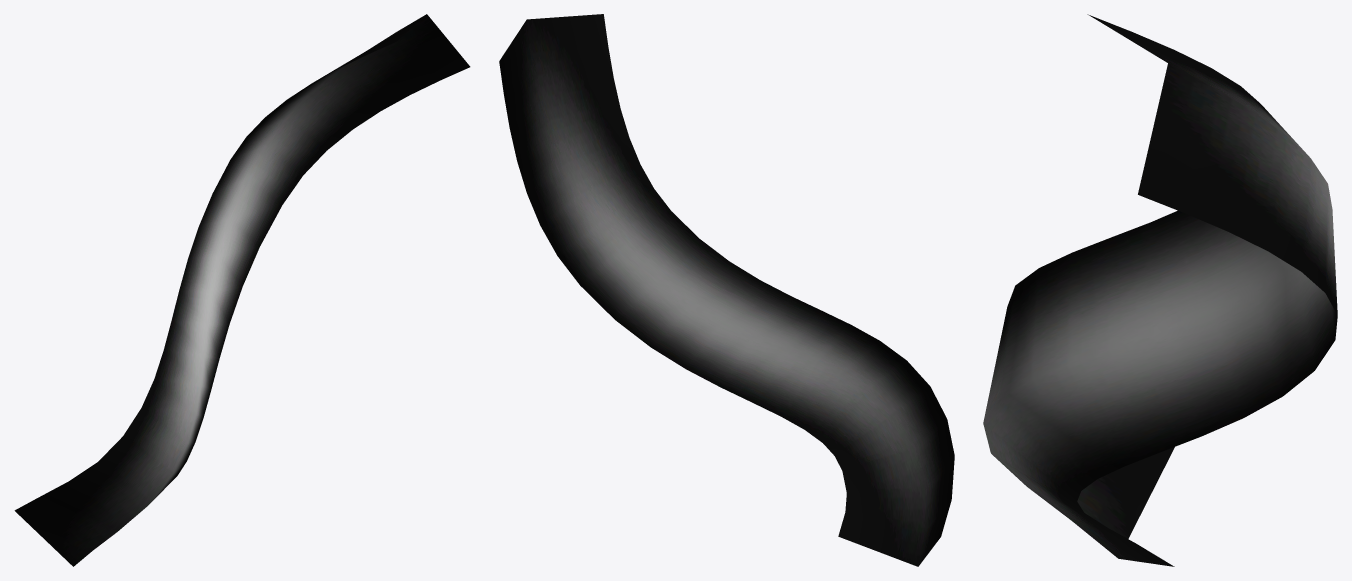
Rendered from vfx_kurp_1183.dae.
3 views of the same model, side by side, from view 1: azimuth 30°, elevation 25°; view 2: azimuth 150°, elevation 25°; view 3: azimuth 270°, elevation 25° (orthographic). The views are drawn at different scales.
Visible parts, largest first — view 1: vfx_kurp_1183; view 2: vfx_kurp_1183; view 3: vfx_kurp_1183.
Part boxes in pixels (x1,y1,x2,y2): vfx_kurp_1183: [14, 14, 470, 566]; vfx_kurp_1183: [499, 14, 954, 566]; vfx_kurp_1183: [983, 14, 1337, 566].
Size of the model in its own units: 4.17 by 1.6 by 4.09.
1 material, 1 textured.
